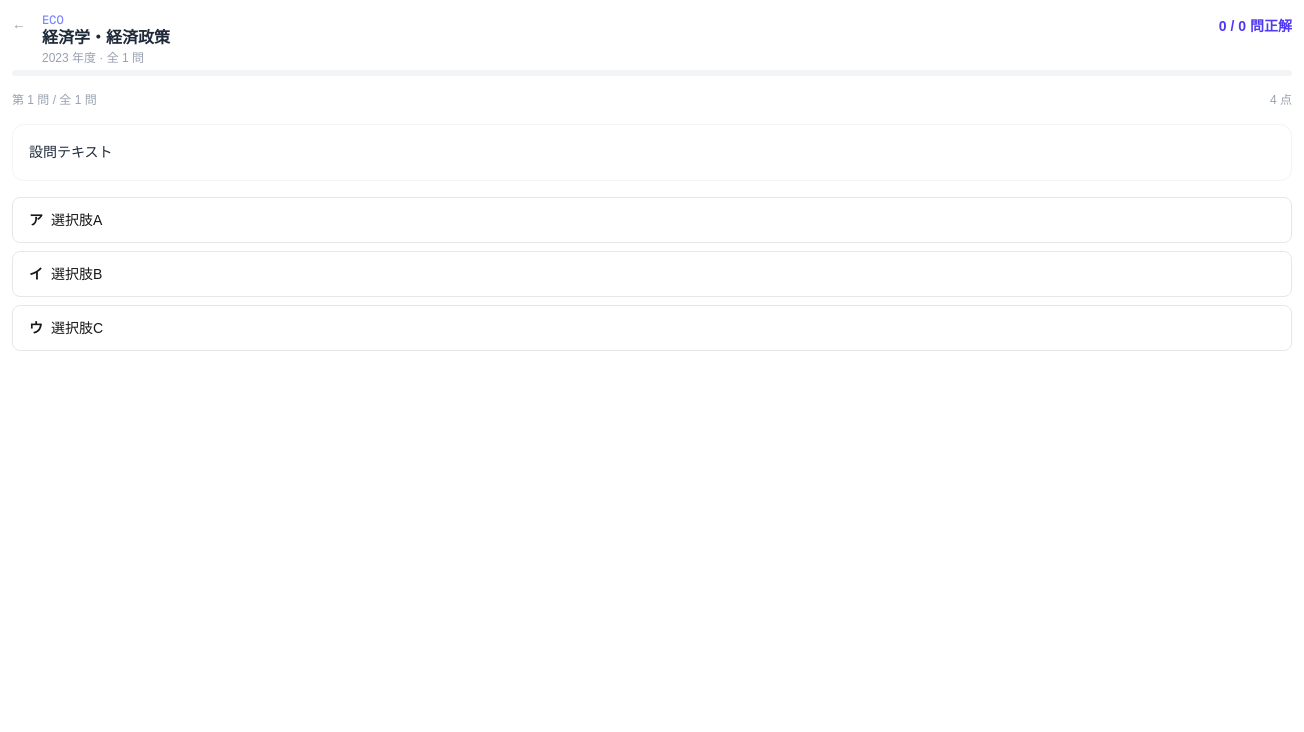
Test: QuizSession › 不正解フロー › 不正解の選択肢をクリックすると「不正解」バッジが表示される
Step 1. Click the button "選択肢B" → {"x": 77, "y": 274}, box [12,251,1292,297]
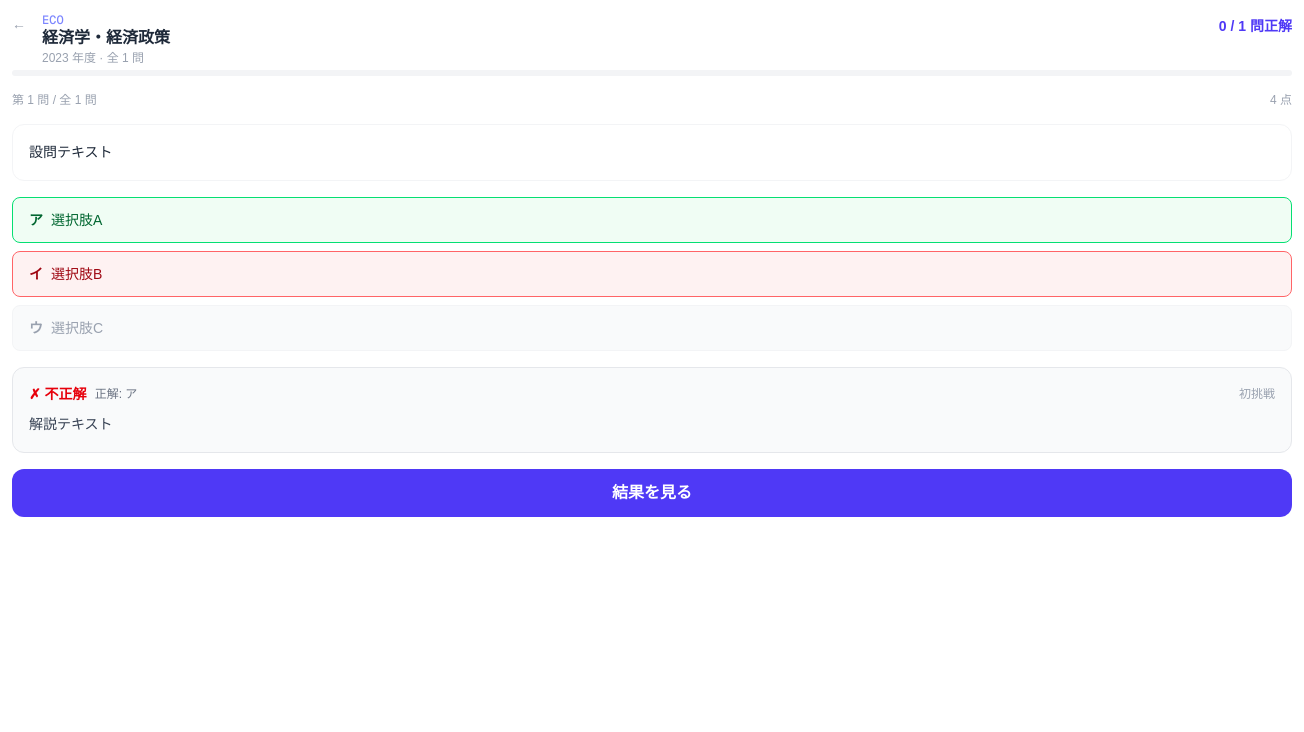
Now the text "✗ 不正解" is shown, box [29,384,87,404]
